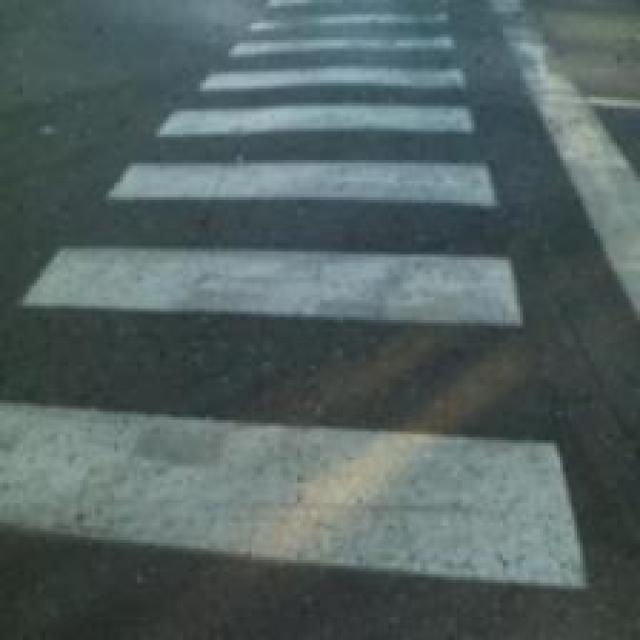obstacle: (0, 9, 589, 589)
